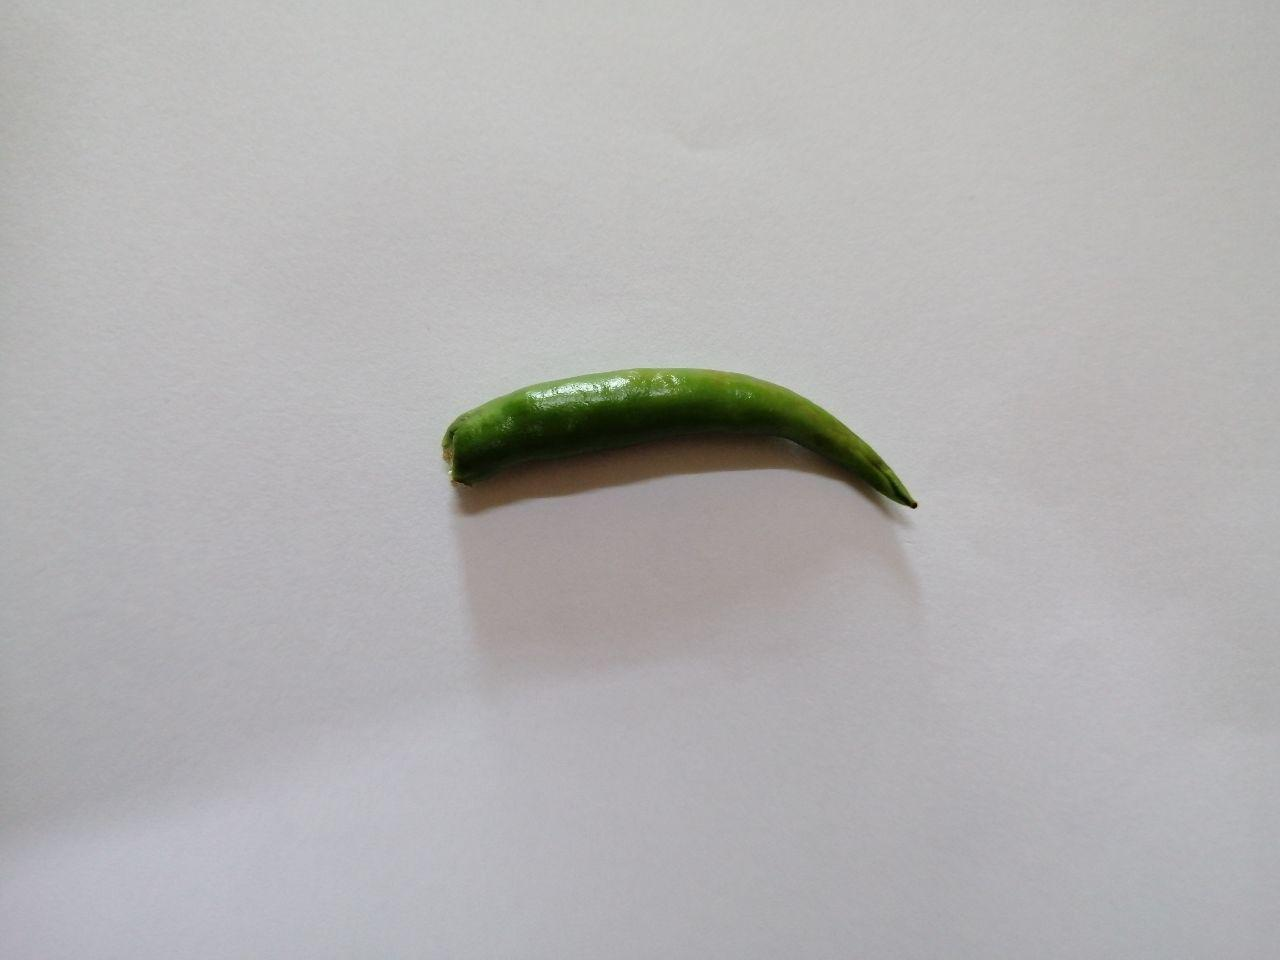lada hijau: (425, 344, 953, 555)
